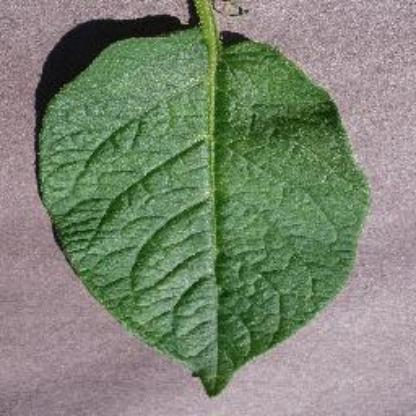Healthy-plant: (37, 2, 374, 396)
